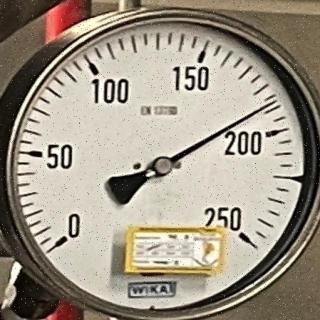gauge: (0, 0, 320, 320), (42, 210, 90, 262), (228, 220, 258, 251), (150, 154, 174, 178), (266, 95, 282, 109)
